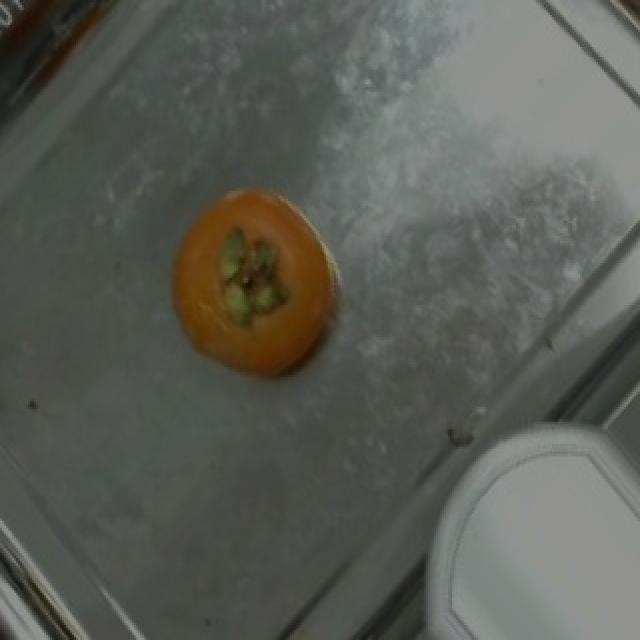Fruit: (148, 166, 364, 394), (428, 431, 640, 640)
